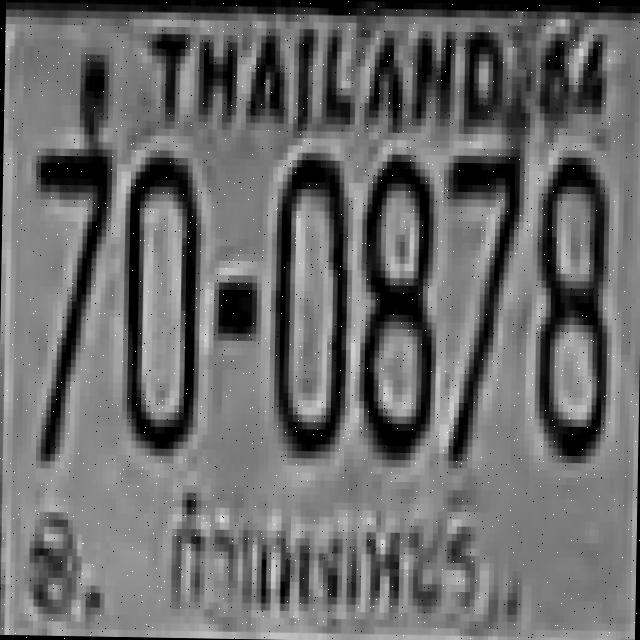0: (118, 149, 205, 454), (270, 145, 352, 457)
7: (29, 143, 110, 464), (441, 146, 522, 460)
8: (354, 146, 438, 458), (532, 150, 612, 462)
KamphaengPhet: (152, 478, 480, 622)
